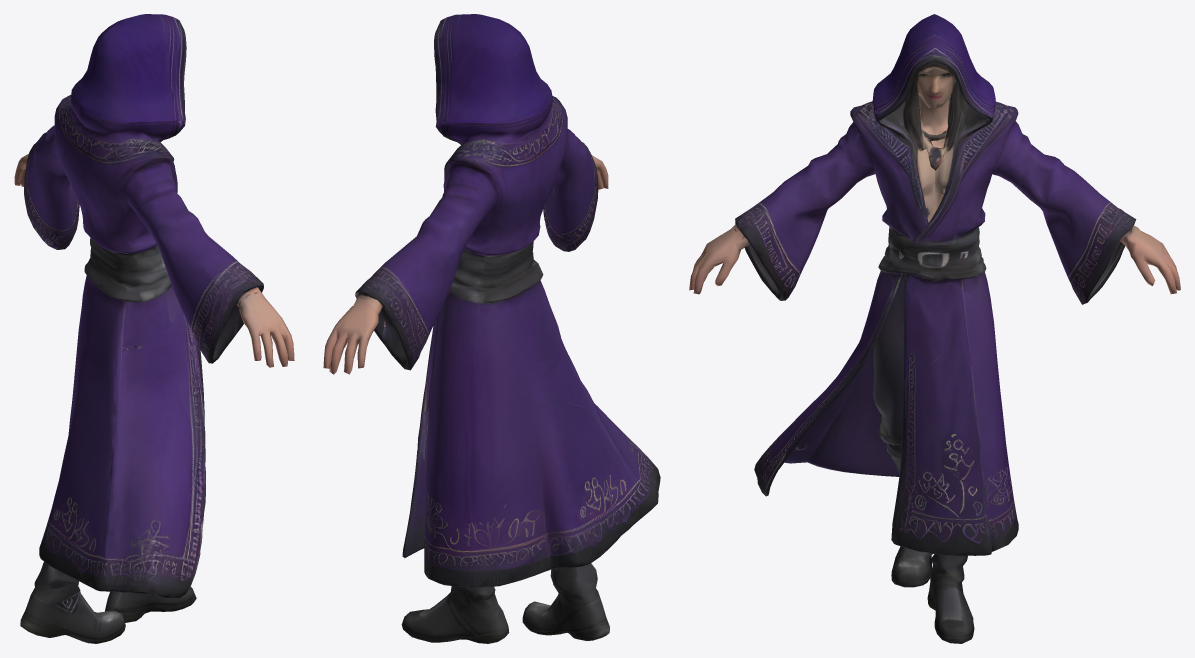
File: Char_Sorcerer_M.glb
The picture shows the model from 3 angles, left to right: view 1: azimuth 30°, elevation 25°; view 2: azimuth 150°, elevation 25°; view 3: azimuth 270°, elevation 25°; orthographic projection. The views are drawn at different scales.
Parts seen in each view (by area): view 1: tripo_node_f936a58f-507c-4780-b36f-79bccb88b219; view 2: tripo_node_f936a58f-507c-4780-b36f-79bccb88b219; view 3: tripo_node_f936a58f-507c-4780-b36f-79bccb88b219.
Boxes of the visible parts, bbox=[...] form: tripo_node_f936a58f-507c-4780-b36f-79bccb88b219: bbox=[14, 14, 294, 643]; tripo_node_f936a58f-507c-4780-b36f-79bccb88b219: bbox=[323, 14, 660, 643]; tripo_node_f936a58f-507c-4780-b36f-79bccb88b219: bbox=[689, 14, 1180, 643].
Bounding box in the file's own units: 0.3214 × 1 × 0.7485.
Materials: 1 (1 with a texture image).
